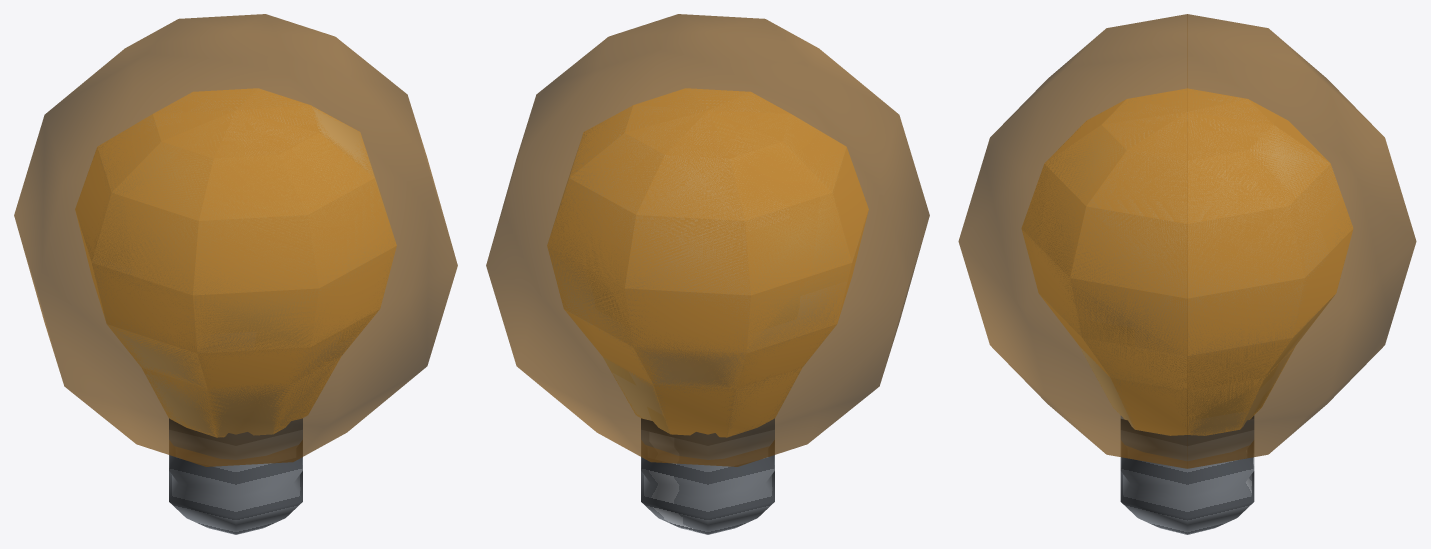
Rendered from demo-lightbulb.glb.
The picture shows the model from 3 angles, left to right: view 1: azimuth 30°, elevation 25°; view 2: azimuth 150°, elevation 25°; view 3: azimuth 270°, elevation 25°; orthographic projection.
Visible parts, largest first — view 1: demo.lightbulb; view 2: demo.lightbulb; view 3: demo.lightbulb.
Part boxes in pixels (x1,y1,x2,y2): demo.lightbulb: [14, 14, 457, 534]; demo.lightbulb: [486, 14, 929, 534]; demo.lightbulb: [958, 14, 1416, 534].
Bounding box in the file's own units: 1.68 × 2 × 1.68.
6 materials, 2 textured.
